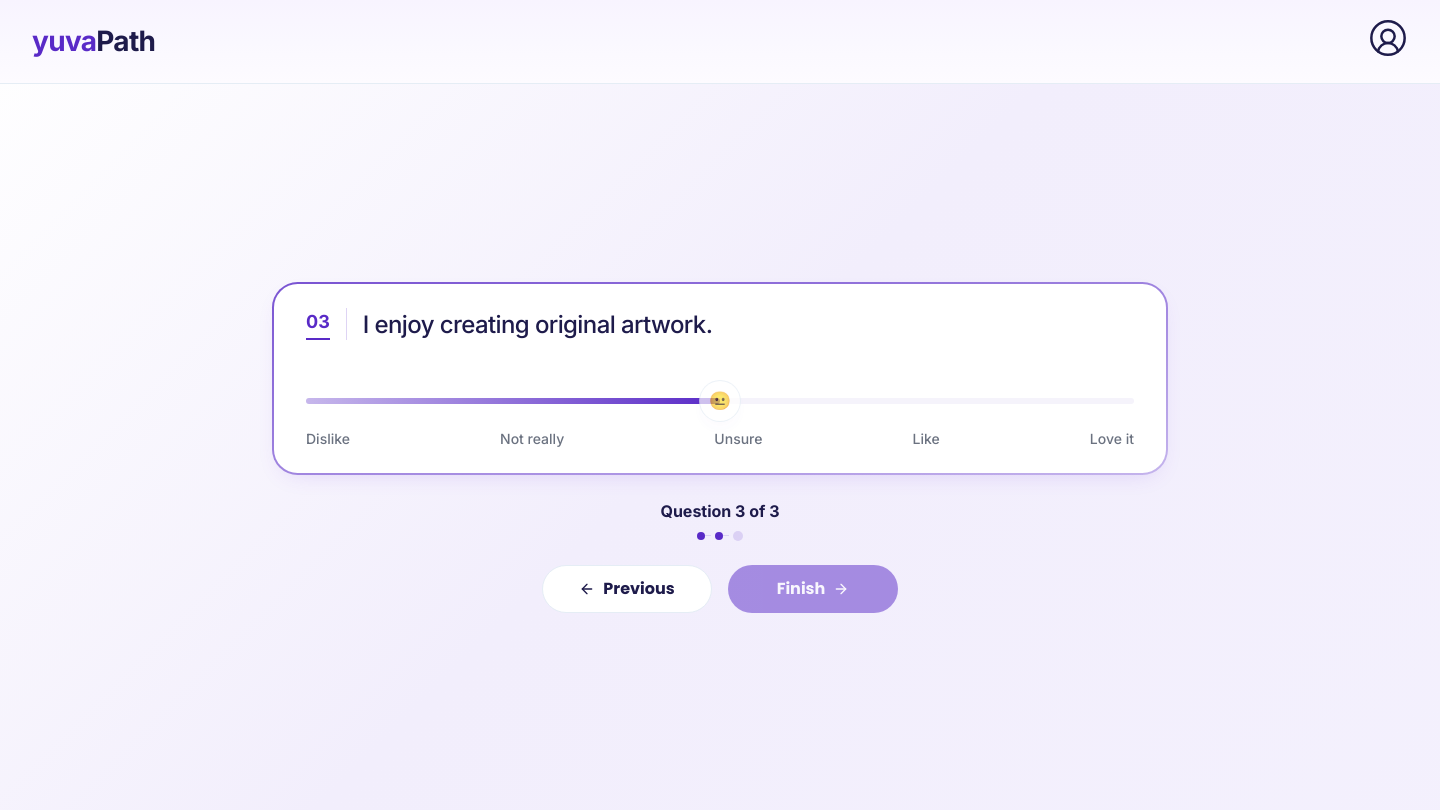
RiasecAssessmentPage › Previous shows a previously saved answer, pre-selected and editable, and updates the progress number
The width and height of the screenshot is (1440, 810).
expect the text "I enjoy creating original artwork." is shown: met, box [363,310,712,338]
expect the text "Question 3 of 3" is shown: met, box [660,498,780,522]
Click the button "Previous".
click(627, 588)  # box [542,564,712,612]
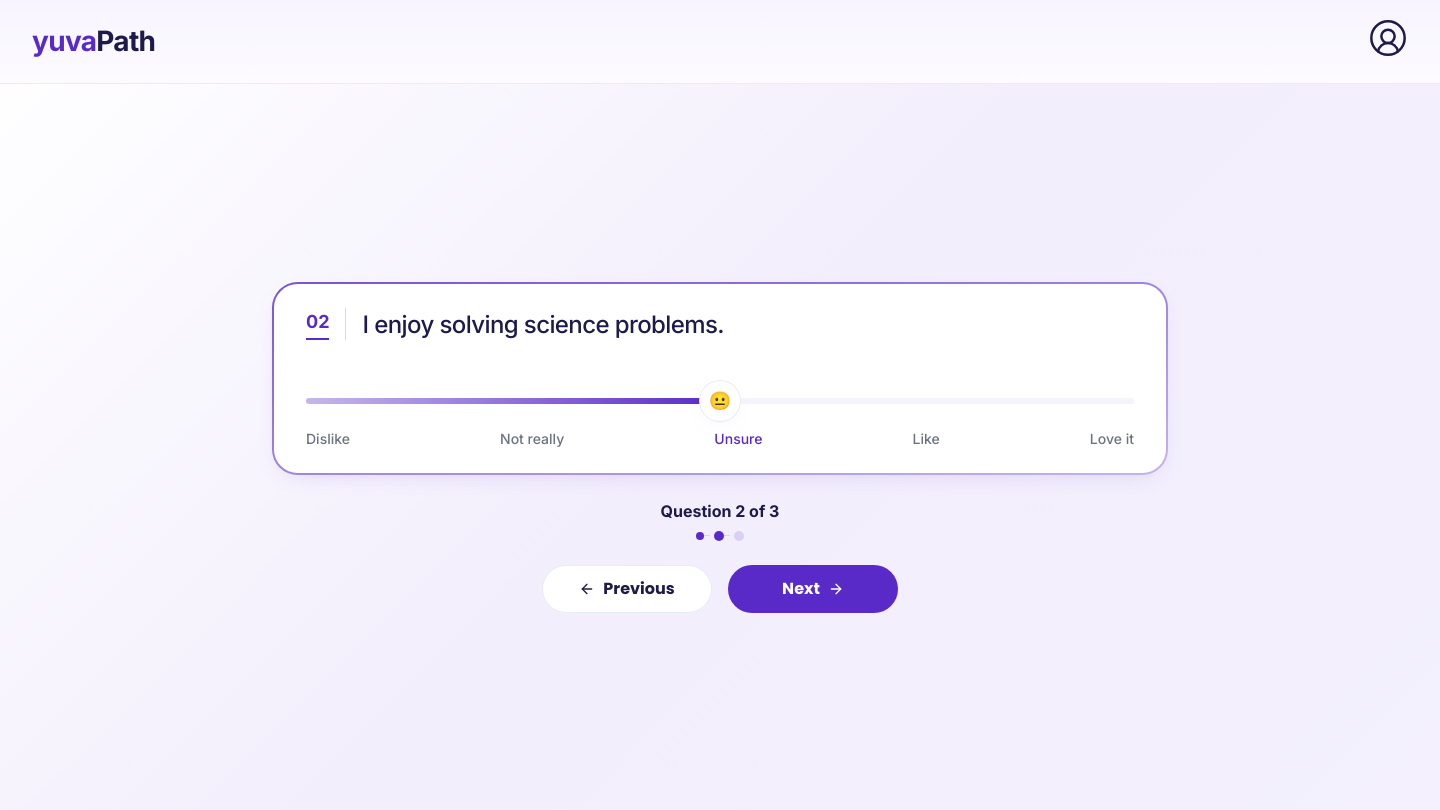
expect the text "I enjoy solving science problems." is shown: met, box [362,310,724,338]
expect the text "Question 2 of 3" is shown: met, box [661,498,779,522]
Click the button "Previous".
click(627, 588)  # box [542,564,712,612]
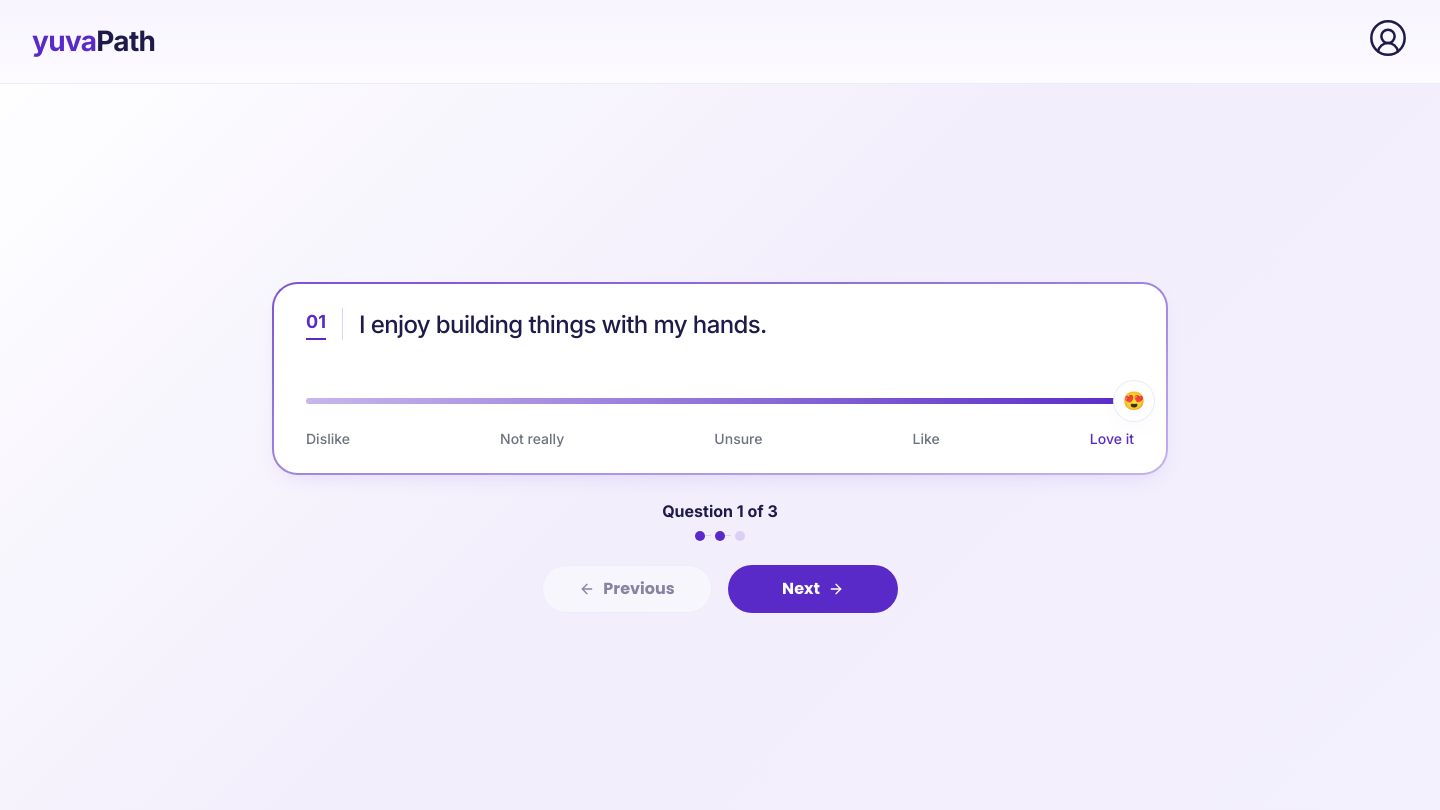
expect the text "I enjoy building things with my hands." is shown: met, box [359,310,767,338]
expect the text "Question 1 of 3" is shown: met, box [662,498,778,522]
expect the button "Previous" is disabled: met, box [542,564,712,612]
